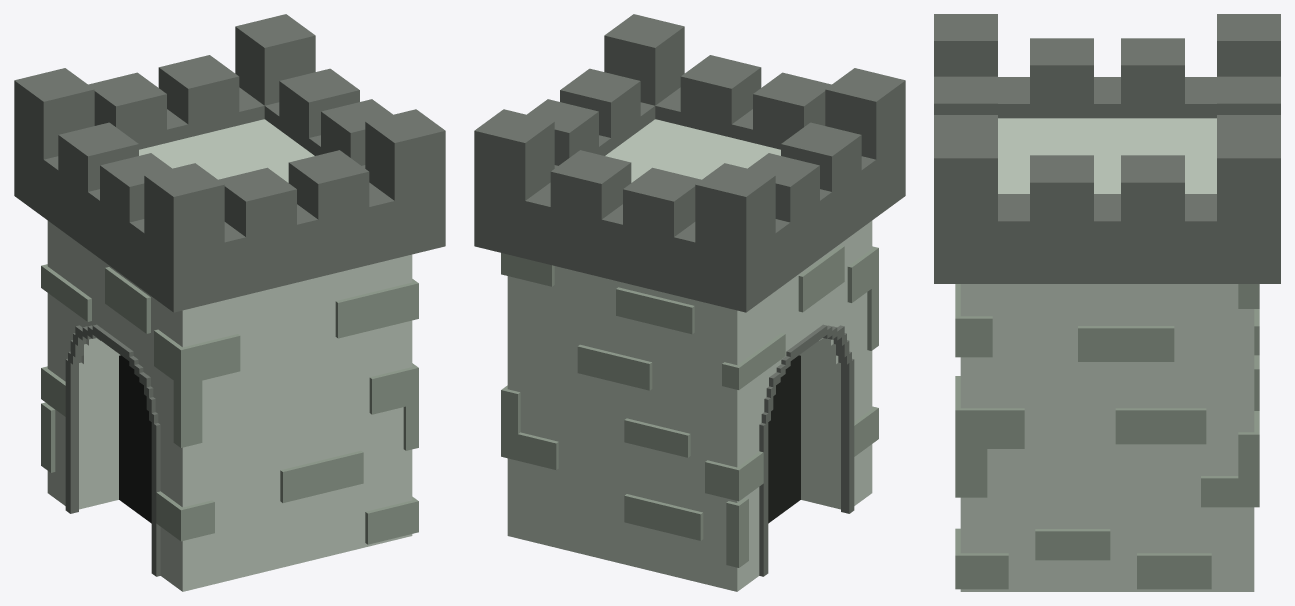
File: barracks#1.obj
3 views of the same model, side by side, from view 1: azimuth 30°, elevation 25°; view 2: azimuth 150°, elevation 25°; view 3: azimuth 270°, elevation 25° (orthographic). The views are drawn at different scales.
Size of the model in its own units: 6.4 by 9.2 by 6.5.
Materials: 1 (1 with a texture image).
